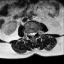CCS_normal: (31, 29, 33, 39)
LFS_normal: (35, 27, 37, 35)
LLS_normal: (33, 29, 35, 37)
RFS_normal: (27, 30, 29, 37)
RLS_normal: (29, 30, 31, 37)
